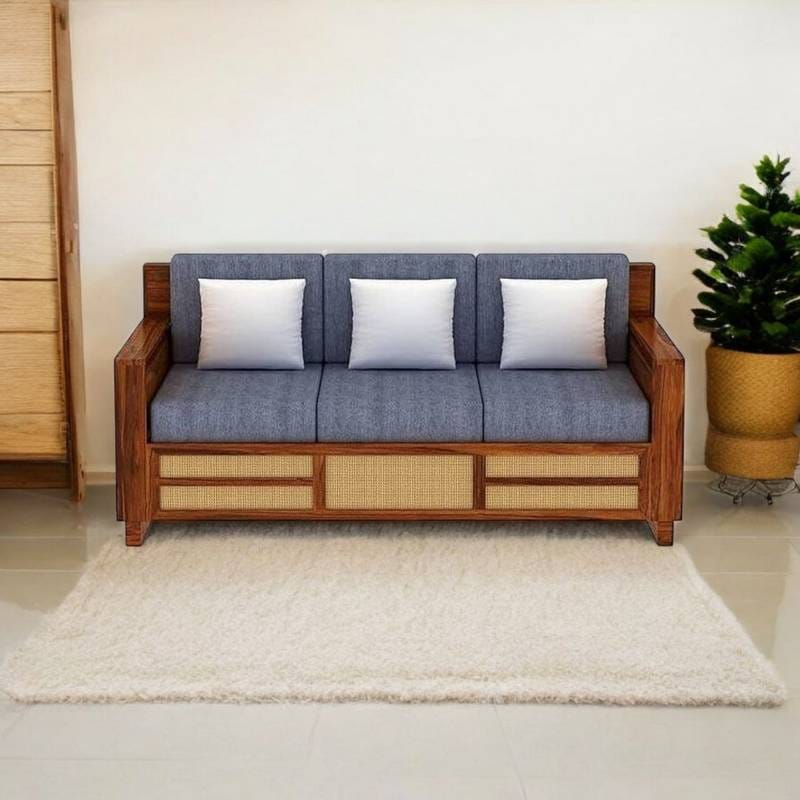3seatersofa: (114, 253, 683, 544)
backrest: (140, 254, 654, 366)
base: (153, 438, 648, 517)
leftarmrest: (629, 317, 683, 520)
leg: (126, 520, 149, 545), (655, 522, 672, 544)
pillow: (501, 278, 606, 368), (200, 279, 305, 368), (350, 279, 454, 368)
rightarmrest: (115, 320, 170, 523)
seat: (150, 362, 650, 442)
